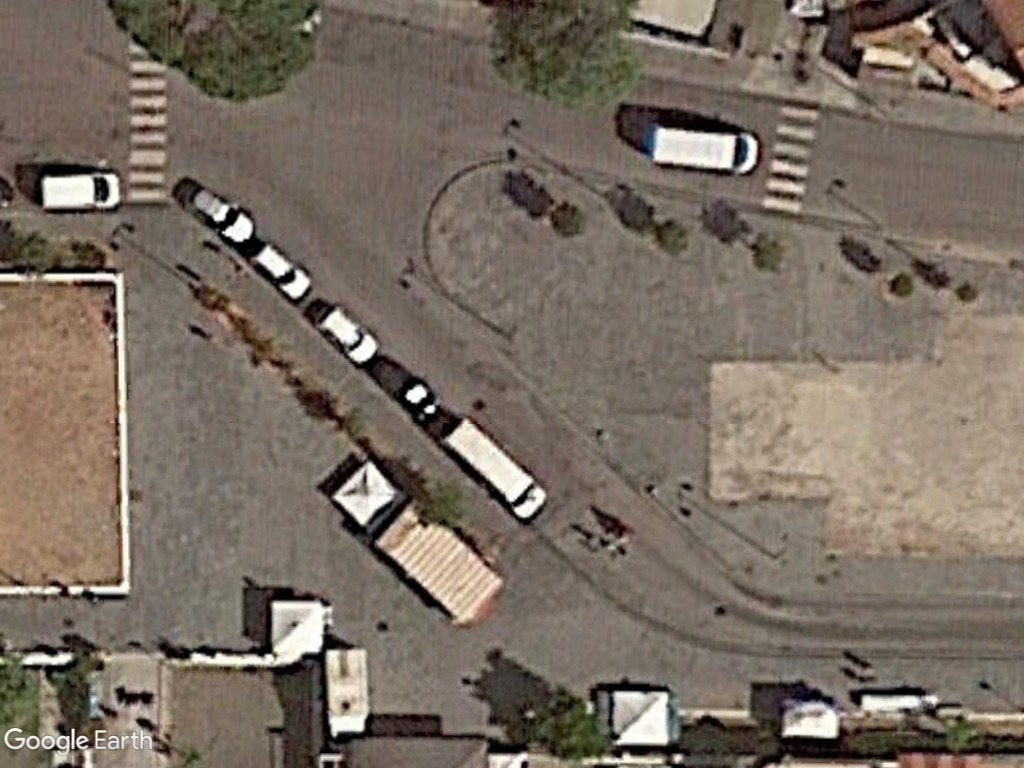car: (181, 180, 259, 248), (310, 298, 383, 366), (246, 240, 316, 304)
truck: (437, 414, 552, 525)
van: (641, 117, 764, 178), (33, 167, 126, 214)
